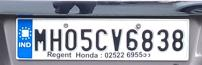0: (63, 27, 78, 52)
3: (155, 27, 170, 51)
5: (79, 28, 95, 55)
6: (126, 28, 140, 52)
8: (172, 28, 185, 53), (141, 28, 155, 51)
C: (94, 28, 109, 50)
H: (49, 26, 65, 53)
M: (33, 27, 48, 52)
V: (110, 27, 124, 52)
